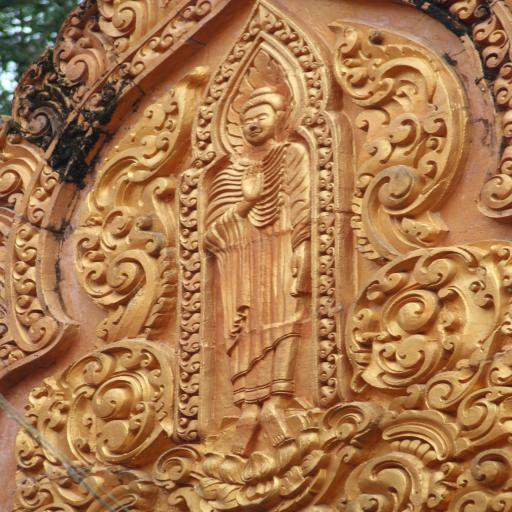lua: (330, 18, 466, 248), (350, 243, 512, 398), (85, 76, 204, 212), (47, 343, 176, 463), (74, 210, 176, 338), (47, 24, 111, 94), (0, 137, 41, 211), (100, 0, 150, 45), (475, 170, 512, 214), (123, 42, 162, 76), (449, 0, 489, 25), (12, 225, 38, 263), (157, 18, 190, 46), (482, 39, 512, 69), (490, 64, 512, 104), (494, 106, 512, 154), (27, 186, 48, 222), (10, 265, 34, 294), (14, 294, 37, 324), (181, 0, 214, 19), (194, 140, 219, 164), (178, 393, 204, 415), (37, 161, 59, 187), (474, 17, 499, 39), (178, 249, 200, 274), (250, 7, 272, 31), (178, 290, 202, 312), (180, 168, 201, 193), (318, 358, 338, 384), (178, 349, 200, 372), (179, 370, 200, 393), (176, 417, 195, 442), (179, 312, 202, 332), (320, 378, 336, 406), (220, 56, 240, 78), (318, 294, 335, 319), (298, 50, 319, 70), (180, 208, 200, 229), (320, 316, 336, 342), (316, 250, 333, 274), (183, 227, 200, 251), (272, 19, 292, 39), (182, 272, 201, 292), (180, 330, 197, 352), (312, 211, 332, 229), (180, 188, 198, 208), (319, 271, 334, 295), (201, 99, 219, 118), (302, 105, 319, 125), (233, 41, 250, 60), (289, 34, 305, 54), (314, 124, 330, 144), (196, 118, 212, 138), (319, 338, 334, 359), (212, 76, 225, 98), (316, 146, 330, 165), (320, 230, 332, 252), (304, 71, 320, 86), (304, 84, 318, 101), (316, 188, 328, 207), (320, 169, 332, 187)
than: (196, 87, 325, 450)
